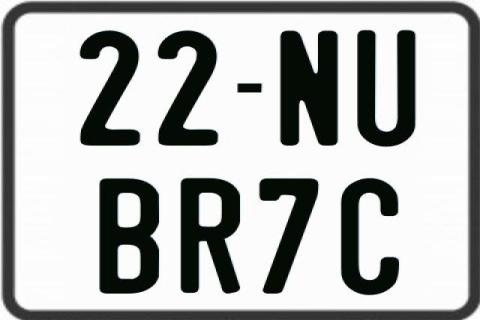0: (80, 29, 145, 149), (259, 176, 321, 292), (156, 31, 218, 146)
B: (98, 178, 160, 294)
C: (341, 177, 403, 295)
N: (277, 30, 338, 150)
R: (180, 177, 243, 297)
U: (355, 29, 413, 148)
